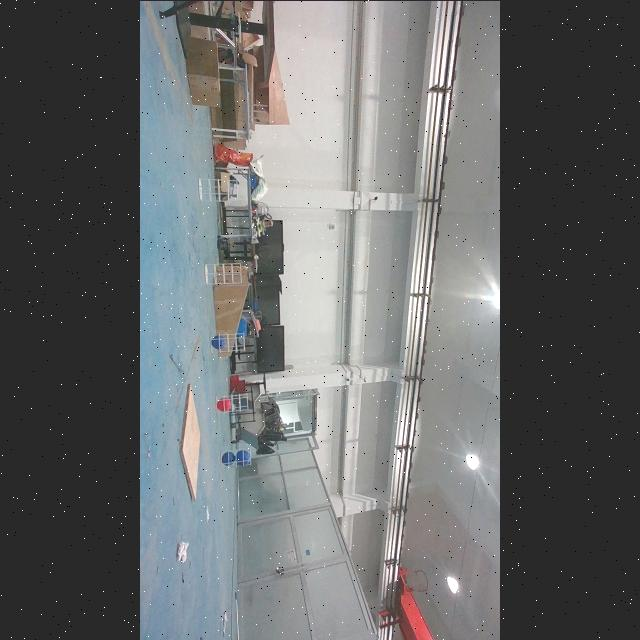B: (236, 448, 250, 466), (222, 450, 234, 466), (212, 334, 224, 348)
R: (217, 396, 230, 412)
S: (197, 175, 240, 205), (203, 258, 245, 288), (213, 390, 251, 416), (207, 330, 247, 354), (217, 445, 253, 469)
